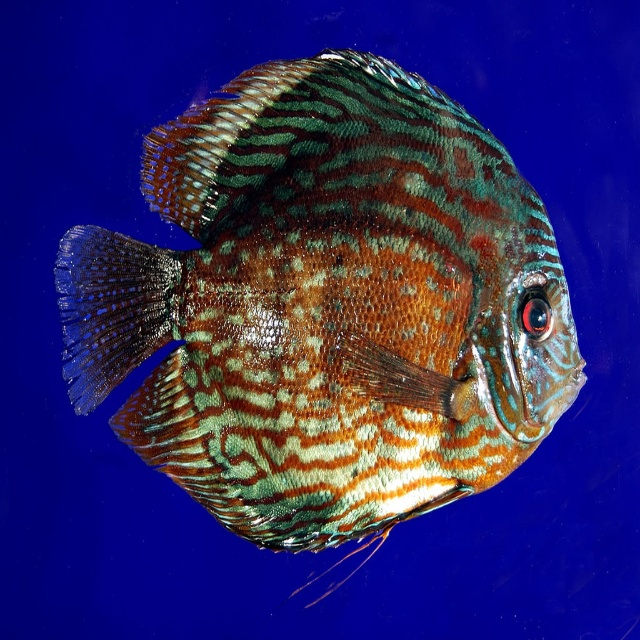Fish: (50, 50, 586, 611)
